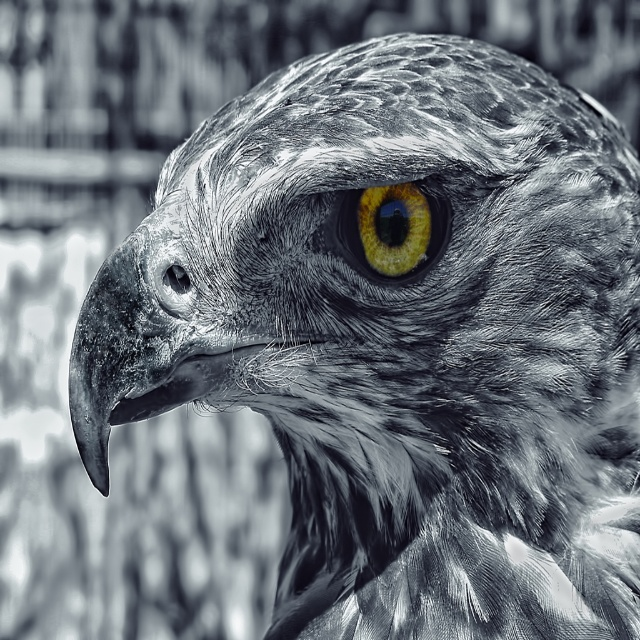Eagle: (68, 29, 640, 639)
